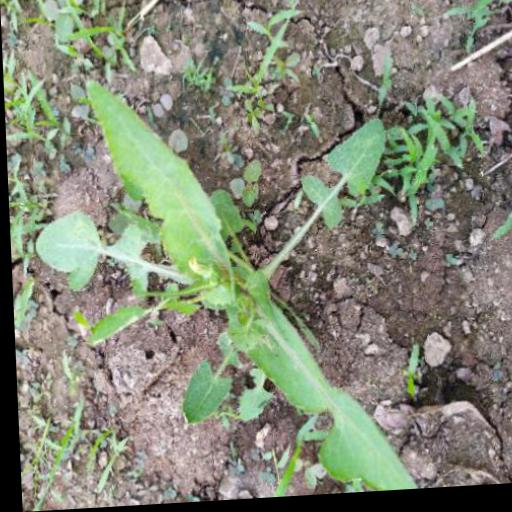weed: (9, 60, 467, 511)
